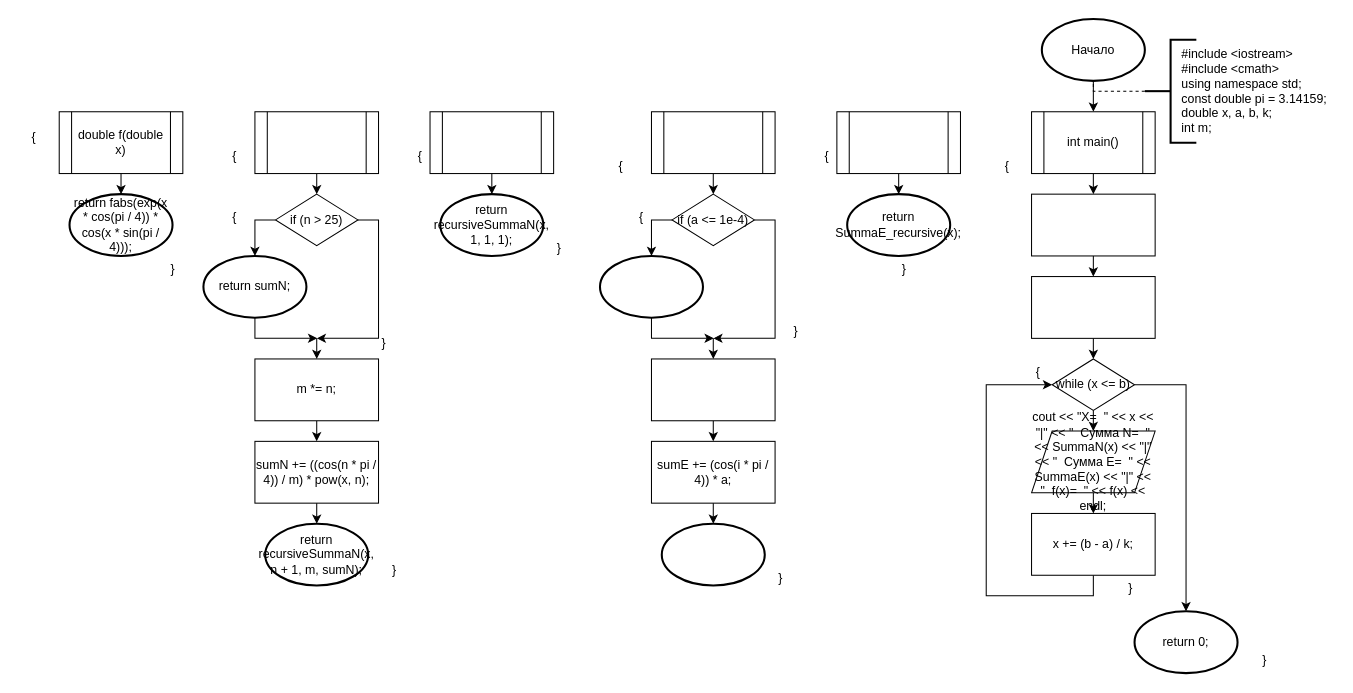
The diagram is 1353 pixels wide and 693 high, and some of its shapes have lost their labels. The centre of each missing label's shape, as x and y in pixels:
a *= 1.0 * x / i;: [712,389]
a = 0.1; b = 1; k = 10; x = 0.1;: [1093,307]
double recursiveSummaN(double x, int n, int m, double sumN): [316,142]
double SummaE(double x): [898,142]
double SummaE_recursive(double x, double a = 1, int i = 1, double sumE = 1): [712,142]
double SummaN(double x): [491,142]
return sumE;: [650,286]
return SummaE_recursive(x, a, i + 1, sumE);: [712,554]
setlocale(LC_ALL, "RU");: [1093,224]
